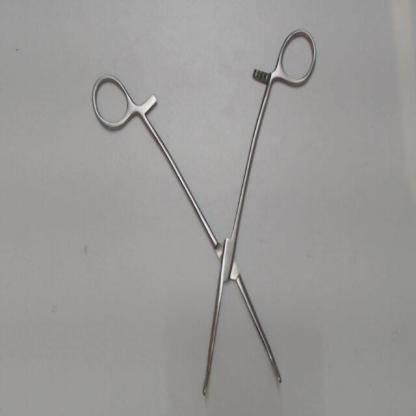Lahey Forceps: (85, 24, 321, 403)
